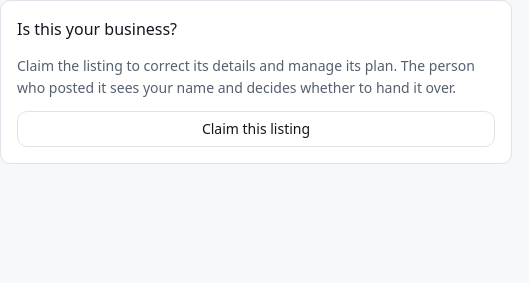
Test: ClaimPanel › explains a second claimant without offering a form the server would refuse
The image size is (529, 283).
Click the button "Claim this listing". click: point(256, 129)
box: [17,111,495,147]
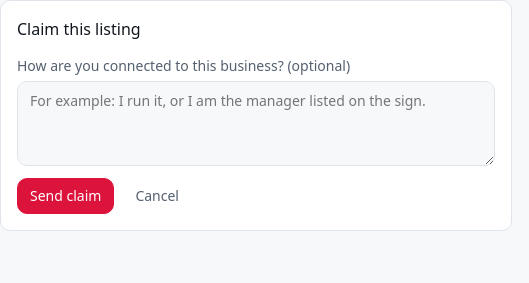
Click the button "Send claim". click: point(66, 196)
box: [17,178,114,214]
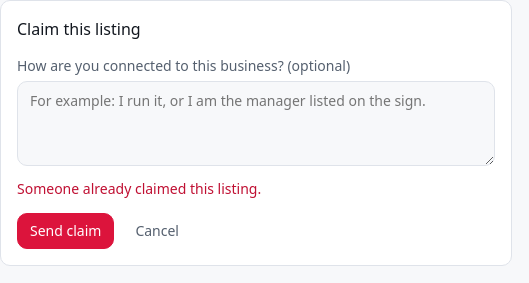
Now the text "Someone already claimed this listing." is shown, box [17,179,261,198]
